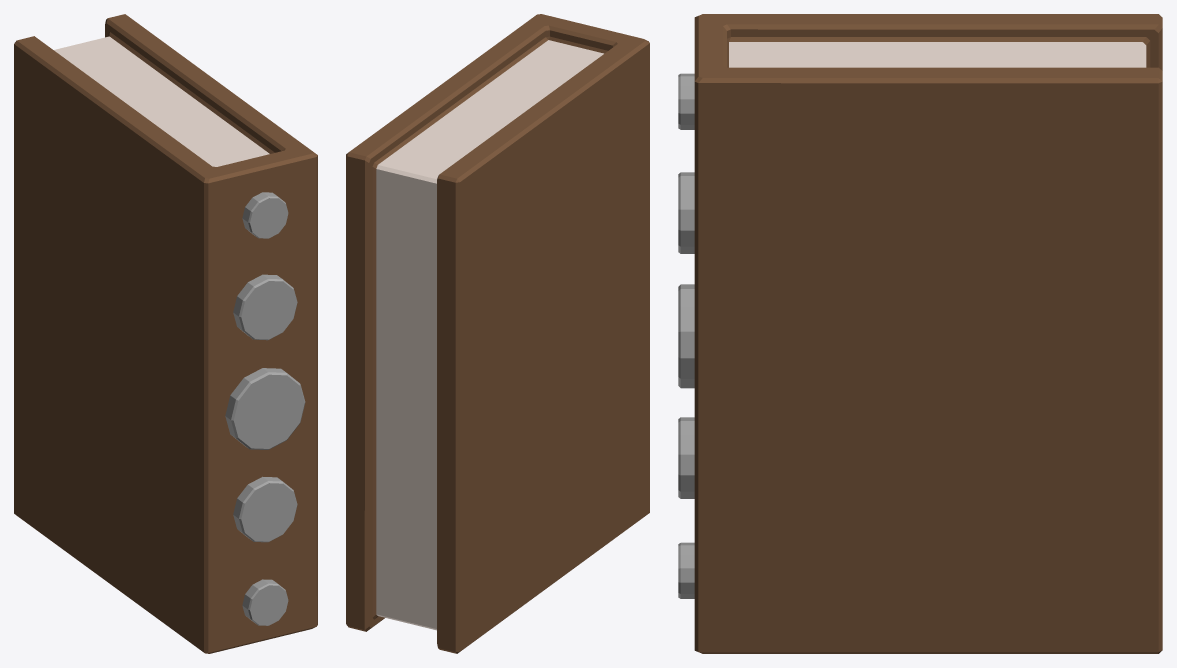
Rendered from Book_20.glb.
The picture shows the model from 3 angles, left to right: view 1: azimuth 30°, elevation 25°; view 2: azimuth 150°, elevation 25°; view 3: azimuth 270°, elevation 25°; orthographic projection. The views are drawn at different scales.
Visible parts, largest first — view 1: Book_20; view 2: Book_20; view 3: Book_20.
Boxes of the visible parts, left/top/right/bottom form: Book_20: left=14, top=14, right=317, bottom=653; Book_20: left=346, top=14, right=649, bottom=653; Book_20: left=678, top=14, right=1162, bottom=653.
Size of the model in its own units: 0.0986 by 0.3928 by 0.2993.
1 material, 1 textured.
